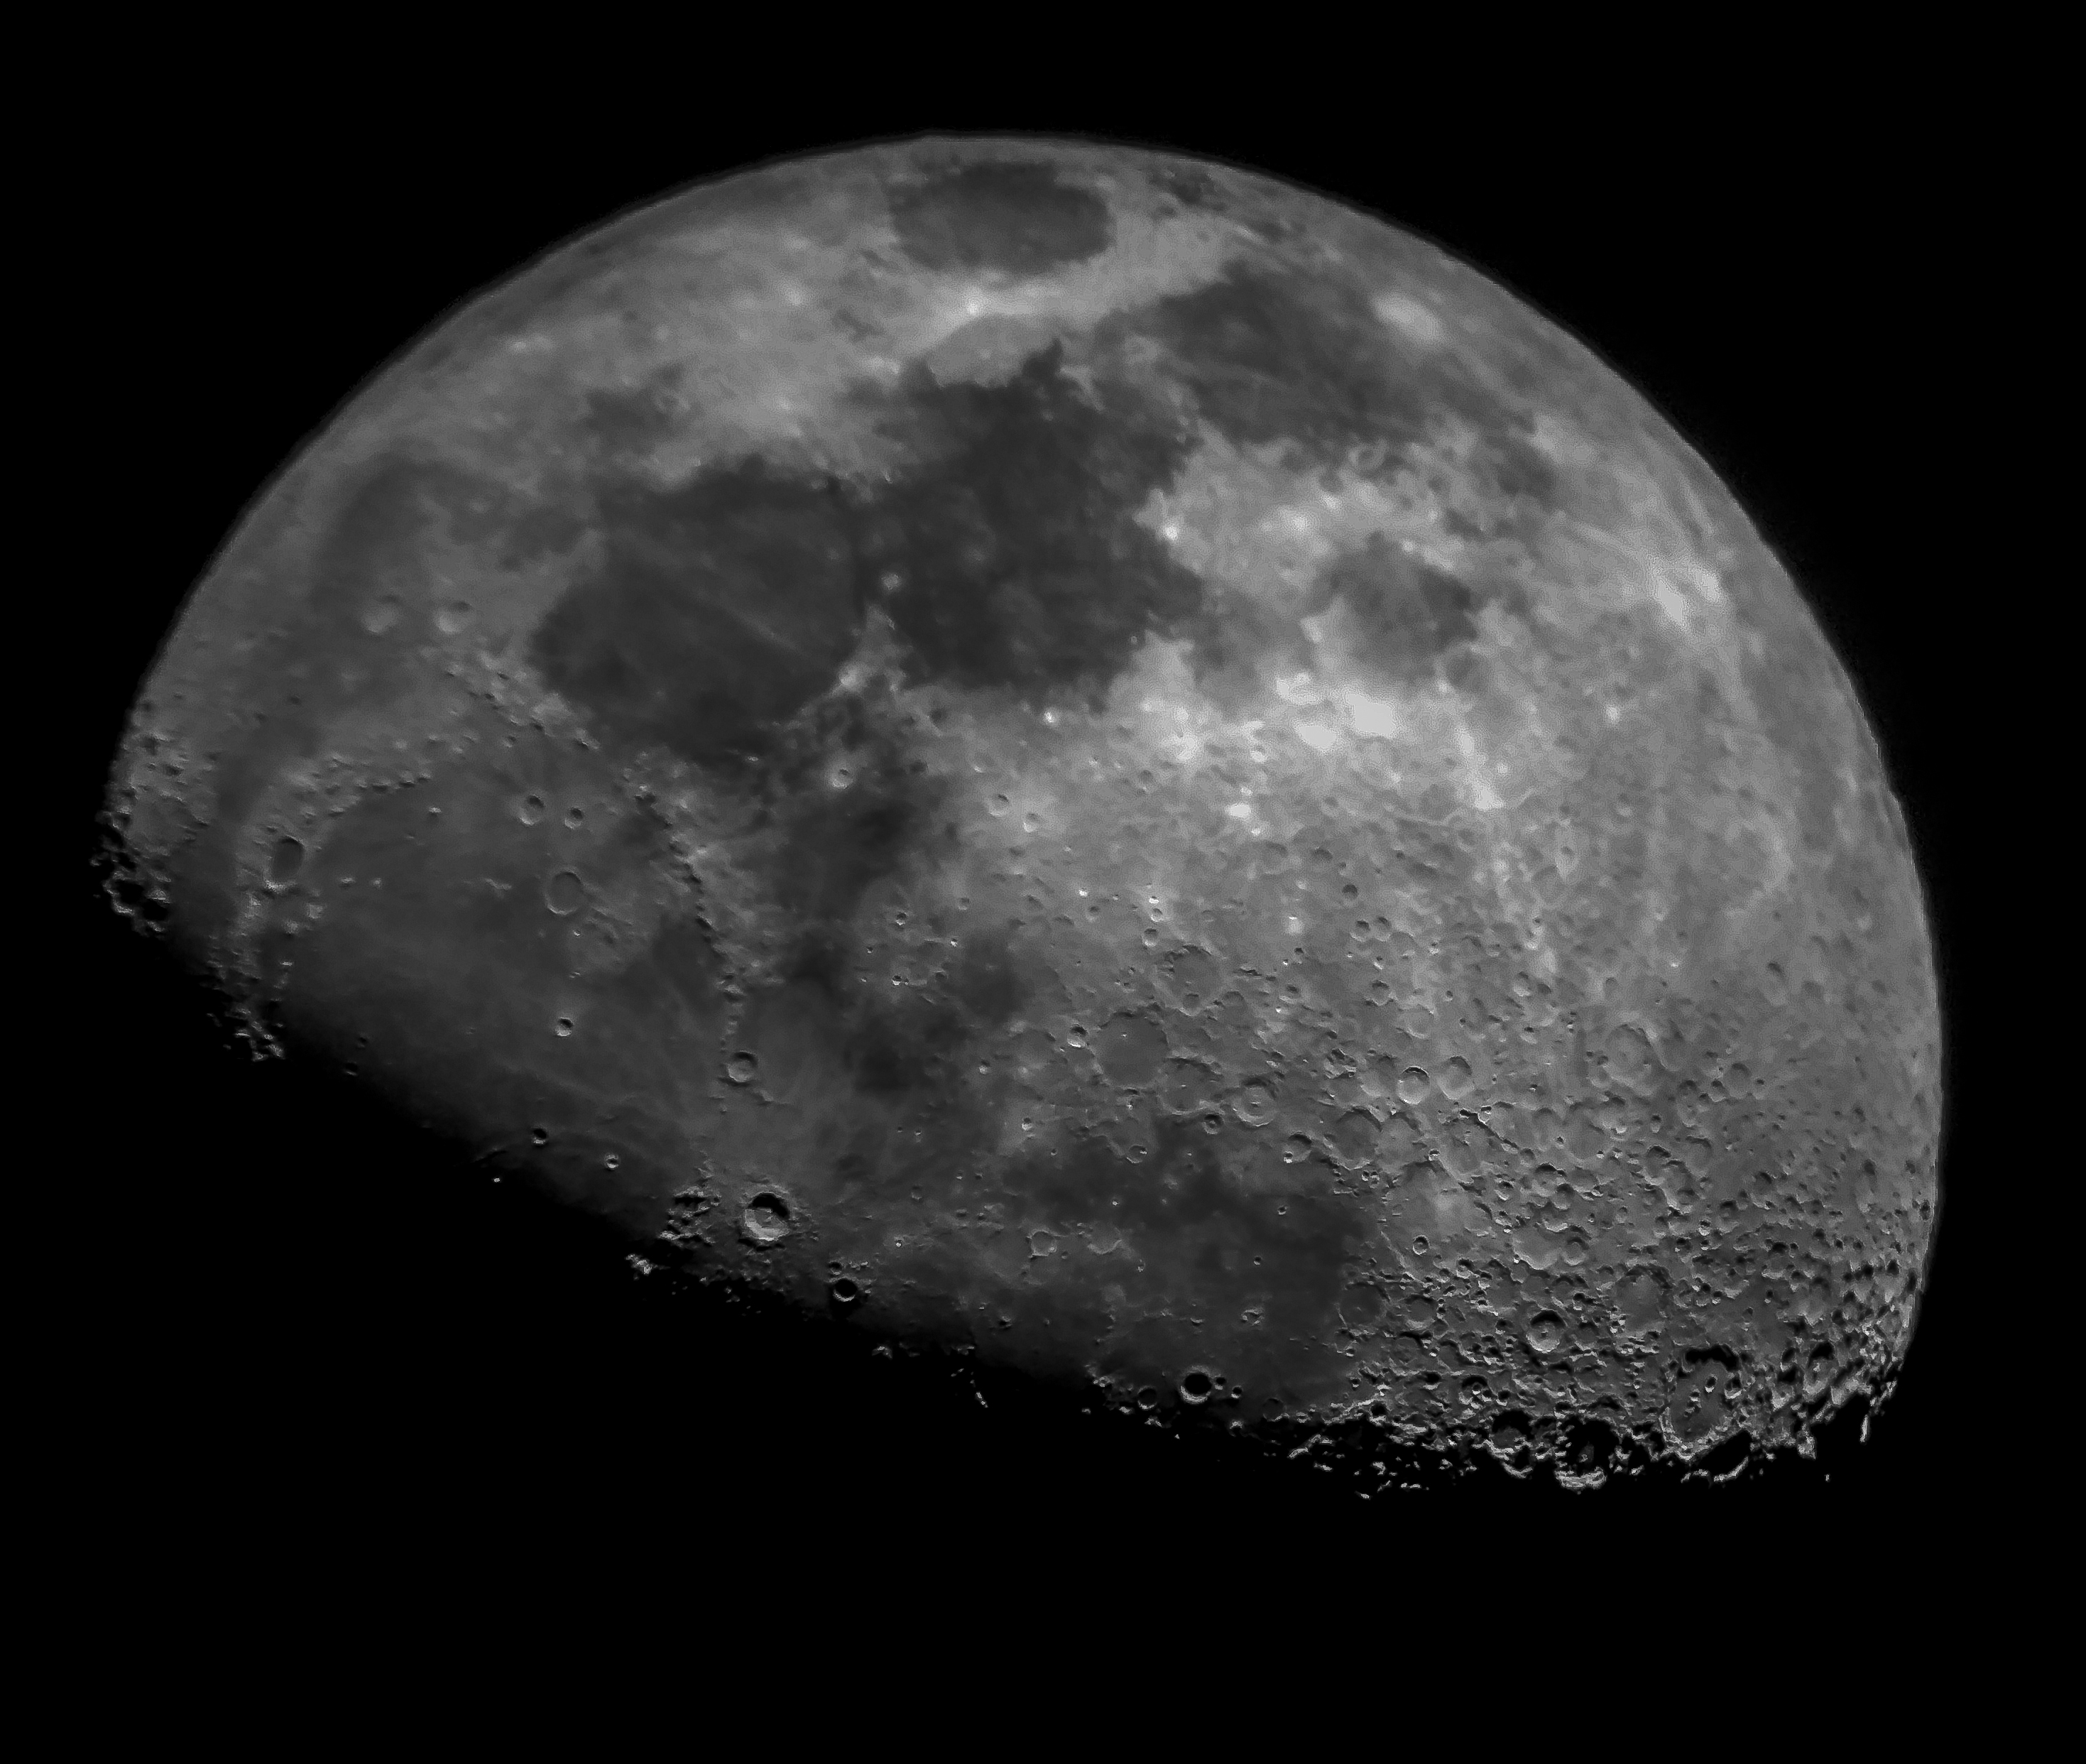crater: (233, 828, 376, 935), (714, 1150, 821, 1251), (417, 557, 513, 661), (912, 275, 1034, 357), (488, 999, 620, 1062), (528, 857, 625, 931), (800, 737, 880, 814), (816, 1253, 912, 1314), (705, 1040, 796, 1104), (1510, 1297, 1582, 1374), (334, 567, 411, 637), (1227, 1064, 1295, 1138), (501, 774, 553, 842), (1171, 1349, 1218, 1414), (975, 774, 1020, 837), (866, 555, 917, 604), (549, 793, 591, 842), (1255, 1192, 1305, 1232)
